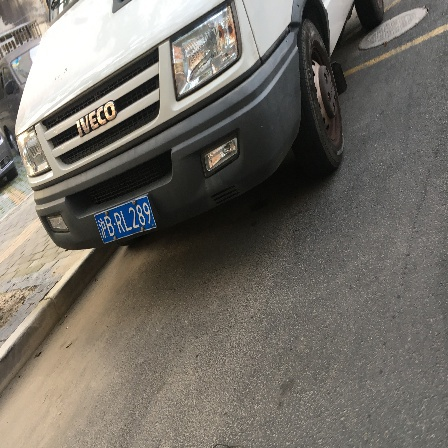plate: (94, 193, 161, 245)
